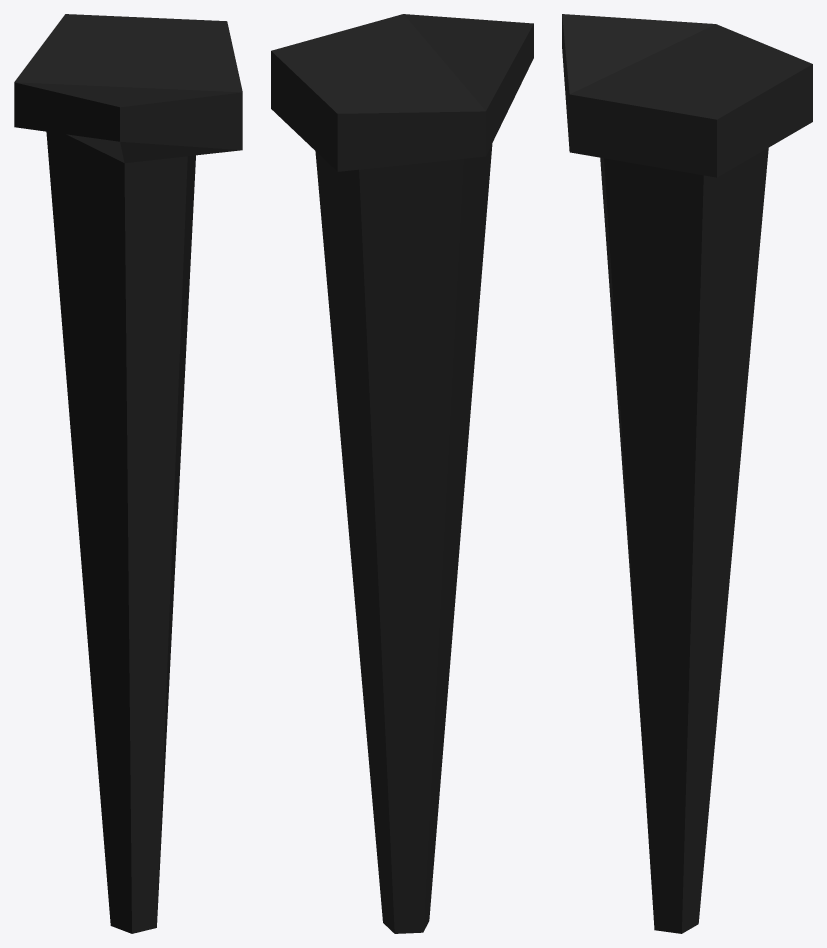
Rendered from nail01.obj.
3 renders of one model, left to right at view 1: azimuth 30°, elevation 25°; view 2: azimuth 150°, elevation 25°; view 3: azimuth 270°, elevation 25°, orthographic.
Visible parts, largest first — view 1: Cube_Cube.001; view 2: Cube_Cube.001; view 3: Cube_Cube.001.
Part boxes in pixels (left/top/right/bottom): Cube_Cube.001: left=14, top=14, right=242, bottom=933; Cube_Cube.001: left=271, top=14, right=533, bottom=933; Cube_Cube.001: left=562, top=14, right=812, bottom=933.
Size of the model in its own units: 0.0241 by 0.0943 by 0.0245.
